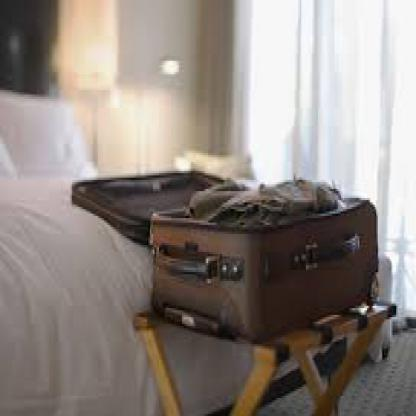maleta: (63, 130, 385, 348)
